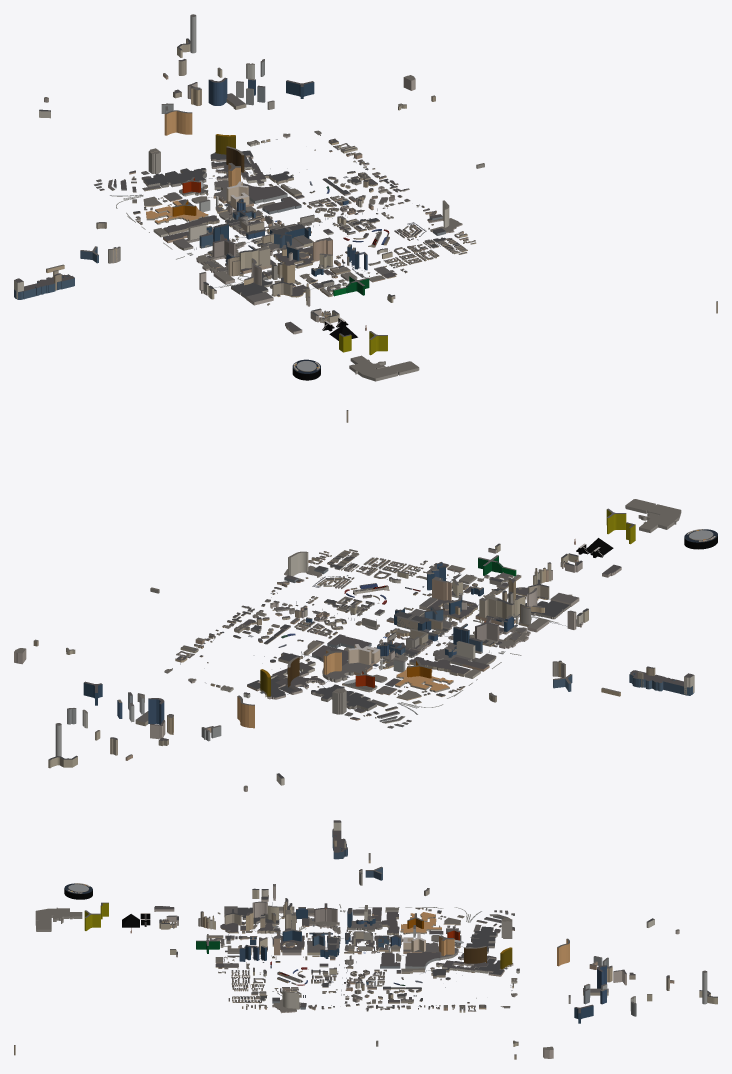
The model's file is scenery.glb.
The picture shows the model from 3 angles, top to bottom: view 1: azimuth 30°, elevation 25°; view 2: azimuth 150°, elevation 25°; view 3: azimuth 270°, elevation 25°; orthographic projection. The views are drawn at different scales.
Parts seen in each view (by area): view 1: chunk_13_14, chunk_13_13, chunk_12_22, chunk_12_15, chunk_12_16, chunk_15_11, chunk_13_16, chunk_14_13, chunk_14_15, chunk_16_8, chunk_8_15, chunk_15_12 (+11 smaller); view 2: chunk_13_14, chunk_13_13, chunk_12_15, chunk_12_22, chunk_12_16, chunk_13_16, chunk_14_15, chunk_14_13, chunk_15_11, chunk_8_15, chunk_17_16, chunk_15_12 (+12 smaller); view 3: chunk_13_14, chunk_15_11, chunk_14_13, chunk_12_22, chunk_14_16, chunk_14_15, chunk_15_12, chunk_12_15, chunk_13_13, chunk_15_13, chunk_12_17, chunk_17_16 (+12 smaller).
Part boxes in pixels (<box>): chunk_13_14: <box>163,215,265,250</box>; chunk_13_13: <box>146,199,227,224</box>; chunk_12_22: <box>349,355,419,381</box>; chunk_12_15: <box>187,233,245,273</box>; chunk_12_16: <box>203,249,258,284</box>; chunk_15_11: <box>210,134,253,172</box>; chunk_13_16: <box>240,243,314,273</box>; chunk_14_13: <box>213,181,275,213</box>; chunk_14_15: <box>262,223,312,247</box>; chunk_16_8: <box>173,77,227,105</box>; chunk_8_15: <box>14,270,74,299</box>; chunk_15_12: <box>211,157,293,186</box>; chunk_13_14: <box>403,629,496,676</box>; chunk_13_13: <box>385,659,453,692</box>; chunk_12_15: <box>448,616,530,654</box>; chunk_12_22: <box>625,499,681,532</box>; chunk_12_16: <box>496,599,549,641</box>; chunk_13_16: <box>426,595,515,626</box>; chunk_14_15: <box>390,606,443,636</box>; chunk_14_13: <box>342,642,394,674</box>; chunk_15_11: <box>247,656,303,699</box>; chunk_8_15: <box>629,666,694,695</box>; chunk_17_16: <box>277,551,342,587</box>; chunk_15_12: <box>270,652,325,694</box>; chunk_13_14: <box>347,909,399,945</box>; chunk_15_11: <box>464,946,513,976</box>; chunk_14_13: <box>390,933,438,961</box>; chunk_12_22: <box>35,907,82,931</box>; chunk_14_16: <box>274,929,325,957</box>; chunk_14_15: <box>307,932,354,958</box>; chunk_15_12: <box>431,953,496,978</box>; chunk_12_15: <box>293,903,352,933</box>; chunk_13_13: <box>399,912,441,941</box>; chunk_15_13: <box>396,952,440,973</box>; chunk_12_17: <box>237,901,279,925</box>; chunk_17_16: <box>272,989,316,1013</box>.
Size of the model in its own units: 5278 by 360 by 7125.
